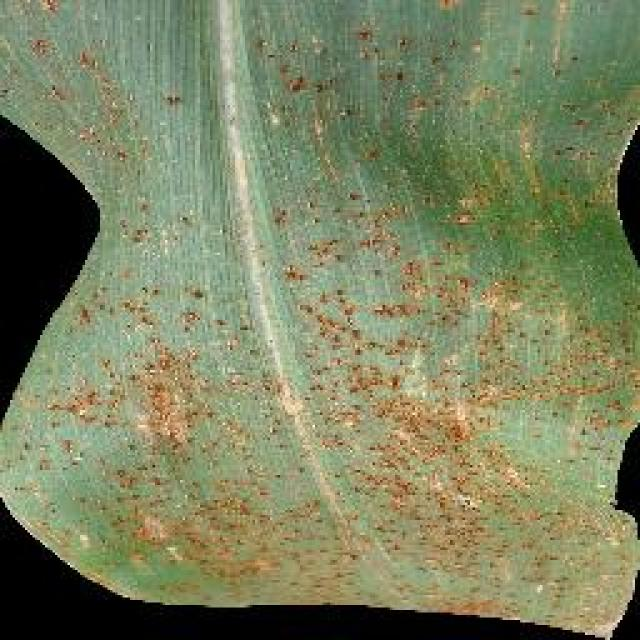Corn___Common_rust: (0, 0, 638, 620)
